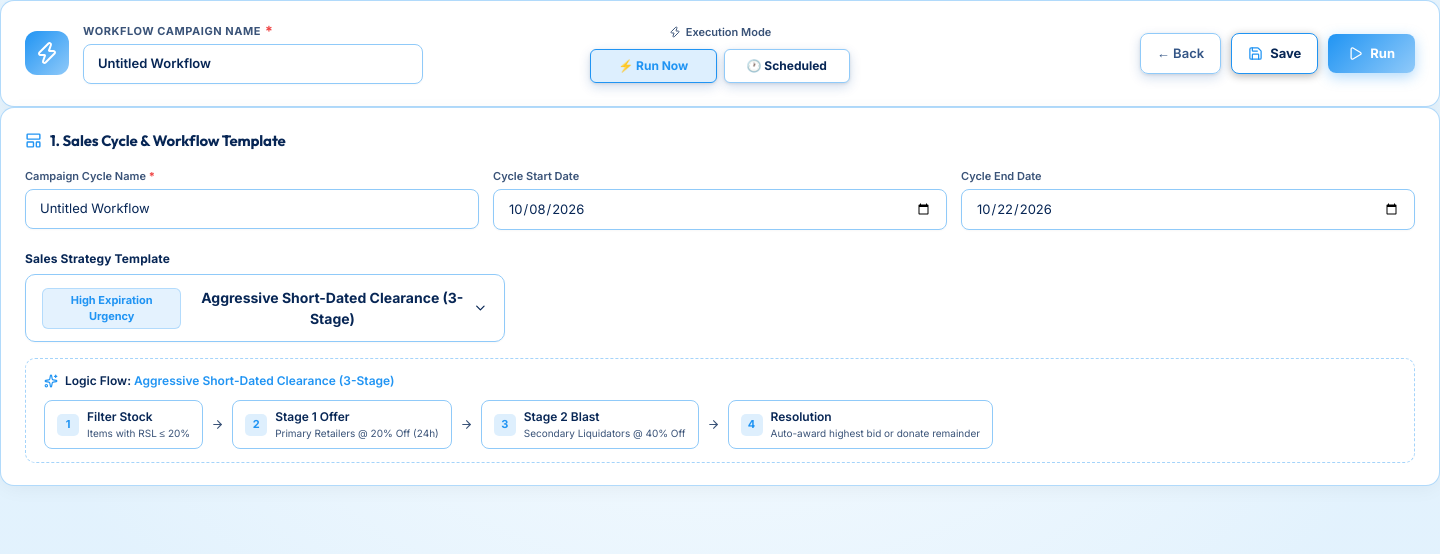
Test: Slice 1: Shell, Header & Scheduling Engine (Modular Tracer Bullet) › StudioHeaderSchedulingBar Component › renders execution mode toggle and interacts with schedule popover
The width and height of the screenshot is (1440, 554).
Expected: the button "⚡ Run Now" is shown, x1=590 y1=48 x2=716 y2=82
Open popover
Click the button "🕐 Scheduled". click: (787, 66)
box: x1=724 y1=48 x2=850 y2=82
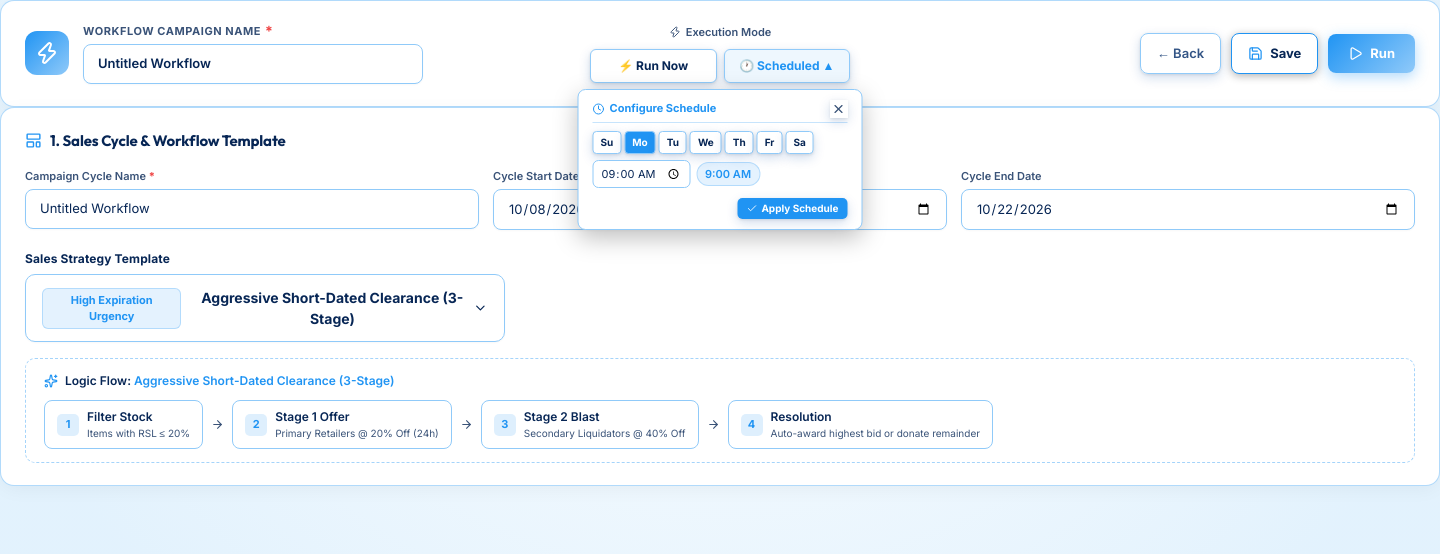
Expected: the text "Configure Schedule" is shown, x1=592 y1=100 x2=716 y2=117
Click the button "We". click: (706, 142)
box: x1=690 y1=130 x2=722 y2=154
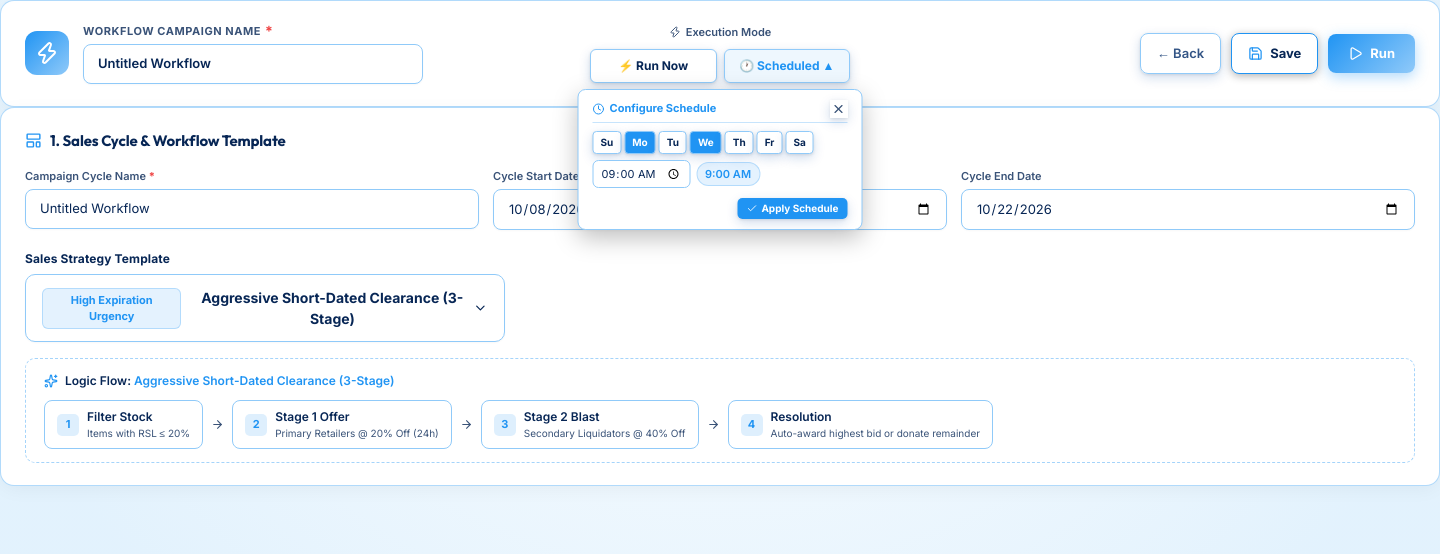
Close via Apply
Click the button "Apply Schedule". click: (792, 208)
box: x1=737 y1=198 x2=848 y2=219
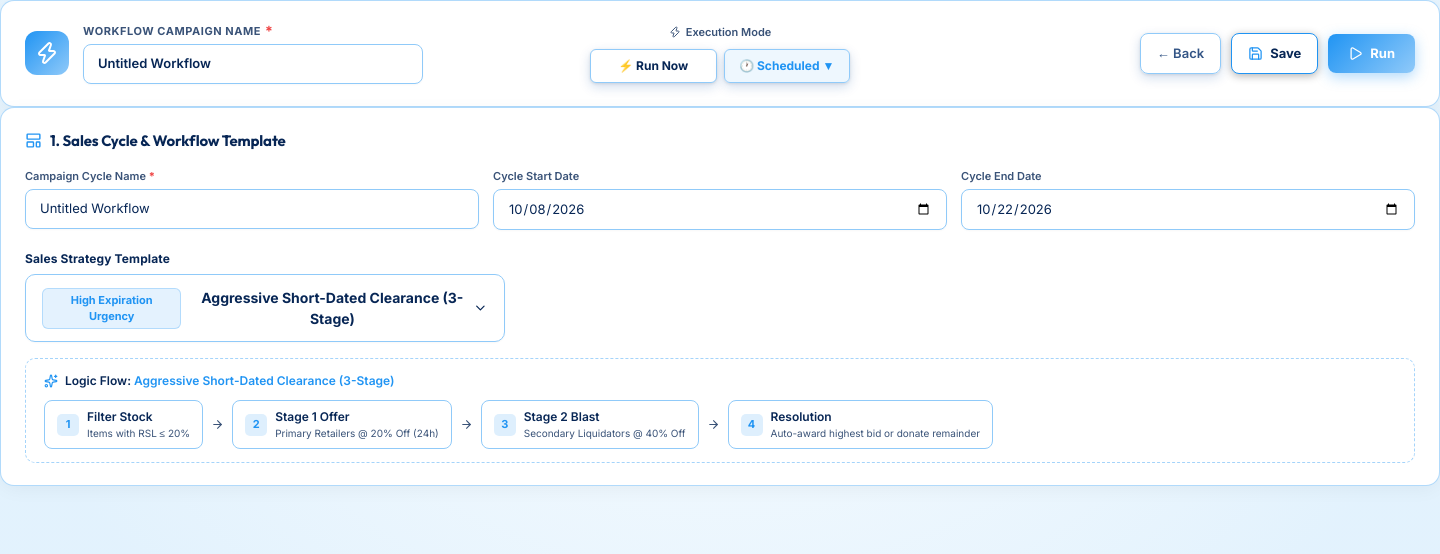
Expected: the text "Configure Schedule" is gone
